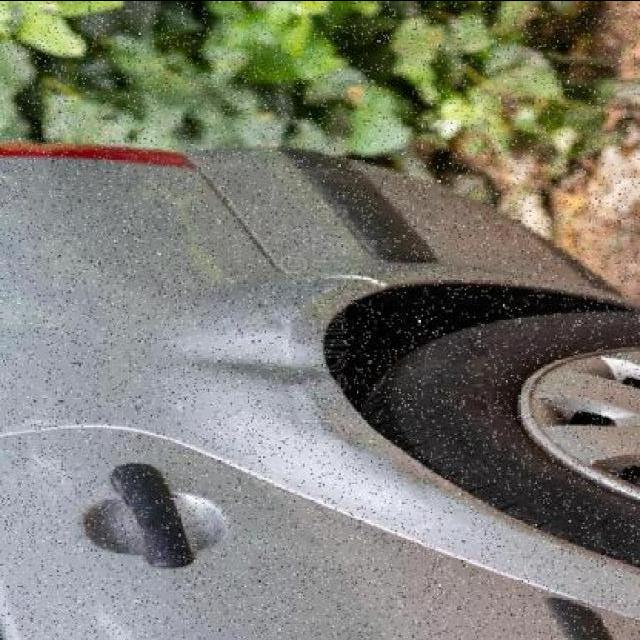quaterpanel-dent: (0, 158, 568, 504)
